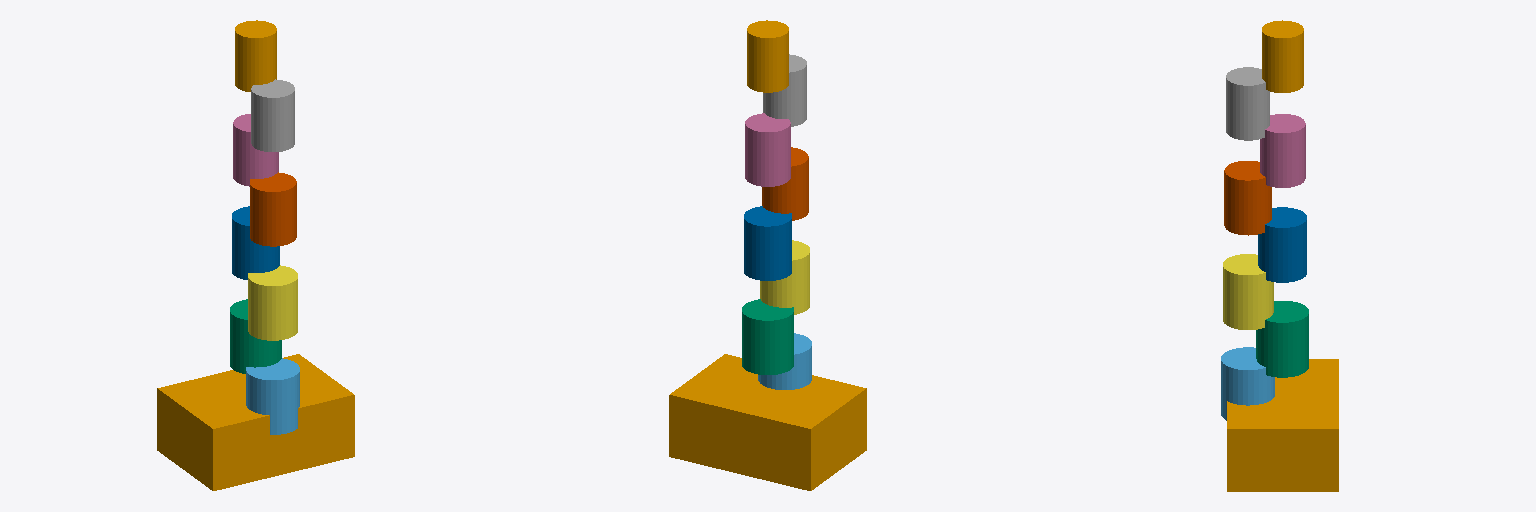
URDF robot description (robotiq_arg85_description):
<?xml version="1.0" encoding="utf-8"?>
<!-- LOCAL_GENERATED_DEMONSTRATION_NOT_UPSTREAM: 历史本地生成的示意链，非原厂/上游原件；不可用于真实结构或控制验证。真实来源请从档案目录选择 PRIMARY 文件。 -->
<!-- =================================================================================== -->
<!-- 历史生成示意（非上游原件）: robotiq_arg85_description (robots/robotiq_arg85_description.URDF)                                          -->
<!-- 机型描述: Robotiq ARG85 工业夹爪 URDF/XACRO 基准                                                                   -->
<!-- 历史目录机型统计（并非本示意链）: 9 连杆 / 8 关节                                                    -->
<!-- =================================================================================== -->
<robot name="robotiq_arg85_description">
  <link name="base_link">
    <inertial>
      <origin xyz="0 0 0.08" rpy="0 0 0"/>
      <mass value="16.40"/>
      <inertia ixx="0.185" ixy="0.0" ixz="0.0" iyy="0.240" iyz="0.0" izz="0.295"/>
    </inertial>
    <visual>
      <origin xyz="0 0 0.08" rpy="0 0 0"/>
      <geometry><box size="0.38 0.26 0.16"/></geometry>
    </visual>
    <collision>
      <origin xyz="0 0 0.08" rpy="0 0 0"/>
      <geometry><box size="0.38 0.26 0.16"/></geometry>
    </collision>
  </link>

  <link name="link_1">
    <inertial>
      <origin xyz="0 0 0.06" rpy="0 0 0"/>
      <mass value="3.200"/>
      <inertia ixx="0.014" ixy="0.0" ixz="0.0" iyy="0.014" iyz="0.0" izz="0.008"/>
    </inertial>
    <visual>
      <origin xyz="0 0 0.06" rpy="0 0 0"/>
      <geometry><cylinder radius="0.063" length="0.14"/></geometry>
    </visual>
  </link>
  <joint name="joint_1" type="revolute">
    <parent link="base_link"/>
    <child link="link_1"/>
    <origin xyz="0 -0.080 0.12" rpy="0 0 0"/>
    <axis xyz="1 0 0"/>
    <limit lower="-2.7925" upper="2.7925" effort="85.0" velocity="6.28"/>
  </joint>

  <link name="link_2">
    <inertial>
      <origin xyz="0 0 0.06" rpy="0 0 0"/>
      <mass value="2.263"/>
      <inertia ixx="0.014" ixy="0.0" ixz="0.0" iyy="0.014" iyz="0.0" izz="0.008"/>
    </inertial>
    <visual>
      <origin xyz="0 0 0.06" rpy="0 0 0"/>
      <geometry><cylinder radius="0.061" length="0.14"/></geometry>
    </visual>
  </link>
  <joint name="joint_2" type="revolute">
    <parent link="link_1"/>
    <child link="link_2"/>
    <origin xyz="0 0.080 0.12" rpy="0 0 0"/>
    <axis xyz="0 1 0"/>
    <limit lower="-2.7925" upper="2.7925" effort="85.0" velocity="6.28"/>
  </joint>

  <link name="link_3">
    <inertial>
      <origin xyz="0 0 0.06" rpy="0 0 0"/>
      <mass value="1.848"/>
      <inertia ixx="0.014" ixy="0.0" ixz="0.0" iyy="0.014" iyz="0.0" izz="0.008"/>
    </inertial>
    <visual>
      <origin xyz="0 0 0.06" rpy="0 0 0"/>
      <geometry><cylinder radius="0.059" length="0.14"/></geometry>
    </visual>
  </link>
  <joint name="joint_3" type="revolute">
    <parent link="link_2"/>
    <child link="link_3"/>
    <origin xyz="0 -0.080 0.12" rpy="0 0 0"/>
    <axis xyz="0 0 1"/>
    <limit lower="-2.7925" upper="2.7925" effort="85.0" velocity="6.28"/>
  </joint>

  <link name="link_4">
    <inertial>
      <origin xyz="0 0 0.06" rpy="0 0 0"/>
      <mass value="1.600"/>
      <inertia ixx="0.014" ixy="0.0" ixz="0.0" iyy="0.014" iyz="0.0" izz="0.008"/>
    </inertial>
    <visual>
      <origin xyz="0 0 0.06" rpy="0 0 0"/>
      <geometry><cylinder radius="0.057" length="0.14"/></geometry>
    </visual>
  </link>
  <joint name="joint_4" type="revolute">
    <parent link="link_3"/>
    <child link="link_4"/>
    <origin xyz="0 0.080 0.12" rpy="0 0 0"/>
    <axis xyz="0 1 0"/>
    <limit lower="-2.7925" upper="2.7925" effort="85.0" velocity="6.28"/>
  </joint>

  <link name="link_5">
    <inertial>
      <origin xyz="0 0 0.06" rpy="0 0 0"/>
      <mass value="1.431"/>
      <inertia ixx="0.014" ixy="0.0" ixz="0.0" iyy="0.014" iyz="0.0" izz="0.008"/>
    </inertial>
    <visual>
      <origin xyz="0 0 0.06" rpy="0 0 0"/>
      <geometry><cylinder radius="0.055" length="0.14"/></geometry>
    </visual>
  </link>
  <joint name="joint_5" type="revolute">
    <parent link="link_4"/>
    <child link="link_5"/>
    <origin xyz="0 -0.080 0.12" rpy="0 0 0"/>
    <axis xyz="1 0 0"/>
    <limit lower="-2.7925" upper="2.7925" effort="85.0" velocity="6.28"/>
  </joint>

  <link name="link_6">
    <inertial>
      <origin xyz="0 0 0.06" rpy="0 0 0"/>
      <mass value="1.306"/>
      <inertia ixx="0.014" ixy="0.0" ixz="0.0" iyy="0.014" iyz="0.0" izz="0.008"/>
    </inertial>
    <visual>
      <origin xyz="0 0 0.06" rpy="0 0 0"/>
      <geometry><cylinder radius="0.053" length="0.14"/></geometry>
    </visual>
  </link>
  <joint name="joint_6" type="revolute">
    <parent link="link_5"/>
    <child link="link_6"/>
    <origin xyz="0 0.080 0.12" rpy="0 0 0"/>
    <axis xyz="0 0 1"/>
    <limit lower="-2.7925" upper="2.7925" effort="85.0" velocity="6.28"/>
  </joint>

  <link name="link_7">
    <inertial>
      <origin xyz="0 0 0.06" rpy="0 0 0"/>
      <mass value="1.209"/>
      <inertia ixx="0.014" ixy="0.0" ixz="0.0" iyy="0.014" iyz="0.0" izz="0.008"/>
    </inertial>
    <visual>
      <origin xyz="0 0 0.06" rpy="0 0 0"/>
      <geometry><cylinder radius="0.051" length="0.14"/></geometry>
    </visual>
  </link>
  <joint name="joint_7" type="revolute">
    <parent link="link_6"/>
    <child link="link_7"/>
    <origin xyz="0 -0.080 0.12" rpy="0 0 0"/>
    <axis xyz="1 0 0"/>
    <limit lower="-2.7925" upper="2.7925" effort="85.0" velocity="6.28"/>
  </joint>

  <link name="link_8">
    <inertial>
      <origin xyz="0 0 0.06" rpy="0 0 0"/>
      <mass value="1.131"/>
      <inertia ixx="0.014" ixy="0.0" ixz="0.0" iyy="0.014" iyz="0.0" izz="0.008"/>
    </inertial>
    <visual>
      <origin xyz="0 0 0.06" rpy="0 0 0"/>
      <geometry><cylinder radius="0.049" length="0.14"/></geometry>
    </visual>
  </link>
  <joint name="joint_8" type="revolute">
    <parent link="link_7"/>
    <child link="link_8"/>
    <origin xyz="0 0.080 0.12" rpy="0 0 0"/>
    <axis xyz="0 1 0"/>
    <limit lower="-2.7925" upper="2.7925" effort="85.0" velocity="6.28"/>
  </joint>
</robot>

--- Render facts (derived) ---
The picture shows the robot from 3 angles, left to right: view 1: azimuth 30°, elevation 25°; view 2: azimuth 150°, elevation 25°; view 3: azimuth 270°, elevation 25°; orthographic projection.
Robot: robotiq_arg85_description — 9 links, 8 joints (8 revolute); root link base_link; default pose: all joints at 0.
Visible links, largest first — view 1: base_link, link_3, link_5, link_1, link_7, link_8, link_2, link_4, link_6; view 2: base_link, link_2, link_4, link_6, link_8, link_3, link_5, link_7, link_1; view 3: base_link, link_2, link_3, link_4, link_5, link_6, link_7, link_8, link_1.
Boxes of the visible links, bbox=[...] form: base_link: bbox=[157, 354, 354, 490]; link_3: bbox=[248, 265, 297, 340]; link_5: bbox=[250, 172, 296, 246]; link_1: bbox=[246, 358, 299, 434]; link_7: bbox=[251, 79, 294, 151]; link_8: bbox=[235, 20, 276, 91]; link_2: bbox=[230, 299, 281, 373]; link_4: bbox=[232, 206, 279, 279]; link_6: bbox=[233, 114, 278, 186]; base_link: bbox=[669, 354, 866, 490]; link_2: bbox=[742, 299, 793, 374]; link_4: bbox=[744, 206, 791, 280]; link_6: bbox=[745, 113, 790, 186]; link_8: bbox=[747, 20, 788, 92]; link_3: bbox=[760, 240, 809, 314]; link_5: bbox=[762, 147, 808, 220]; link_7: bbox=[763, 54, 806, 126]; link_1: bbox=[758, 333, 811, 389]; base_link: bbox=[1227, 359, 1338, 491]; link_2: bbox=[1256, 301, 1308, 377]; link_3: bbox=[1223, 254, 1273, 329]; link_4: bbox=[1258, 207, 1306, 282]; link_5: bbox=[1224, 161, 1271, 235]; link_6: bbox=[1260, 114, 1305, 187]; link_7: bbox=[1226, 67, 1269, 140]; link_8: bbox=[1262, 20, 1303, 92]; link_1: bbox=[1221, 347, 1274, 420].
Bounding box of the posed robot: 0.38 × 0.273 × 1.09 m (x, y, z).
Geometry: primitives only (box / cylinder / sphere), no mesh files.
